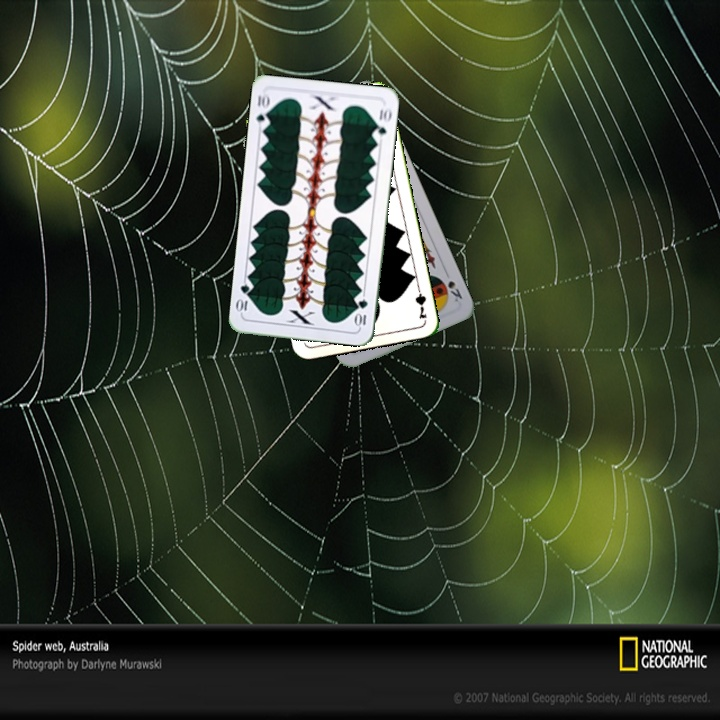G10: (252, 89, 273, 131), (352, 295, 370, 329)
G7: (411, 281, 429, 321)
SK: (444, 276, 465, 304)
